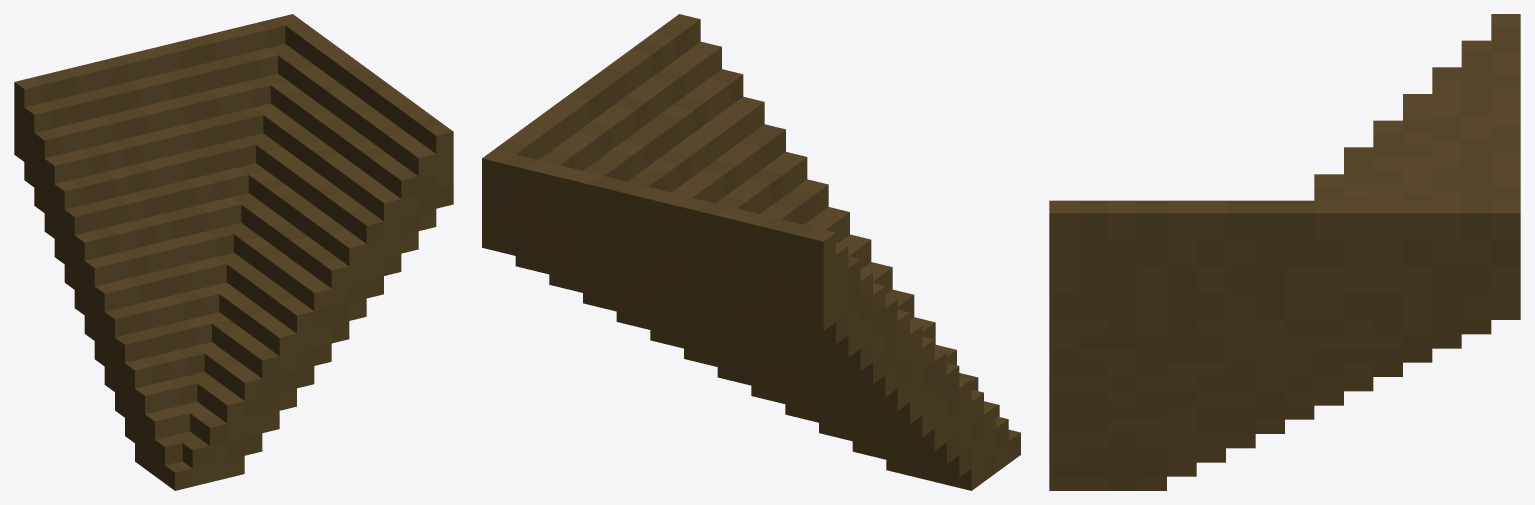
Rendered from tavern-45-roof_cornerinvs.obj.
The picture shows the model from 3 angles, left to right: view 1: azimuth 30°, elevation 25°; view 2: azimuth 150°, elevation 25°; view 3: azimuth 270°, elevation 25°; orthographic projection. The views are drawn at different scales.
Visible parts, largest first — view 1: roof_cornerinvs; view 2: roof_cornerinvs; view 3: roof_cornerinvs.
Boxes of the visible parts, <box> form: roof_cornerinvs: <box>14,14,453,490</box>; roof_cornerinvs: <box>482,14,1020,490</box>; roof_cornerinvs: <box>1049,14,1520,490</box>.
Bounding box in the file's own units: 1.6 × 1.6 × 1.6.
Materials: 1 (1 with a texture image).
